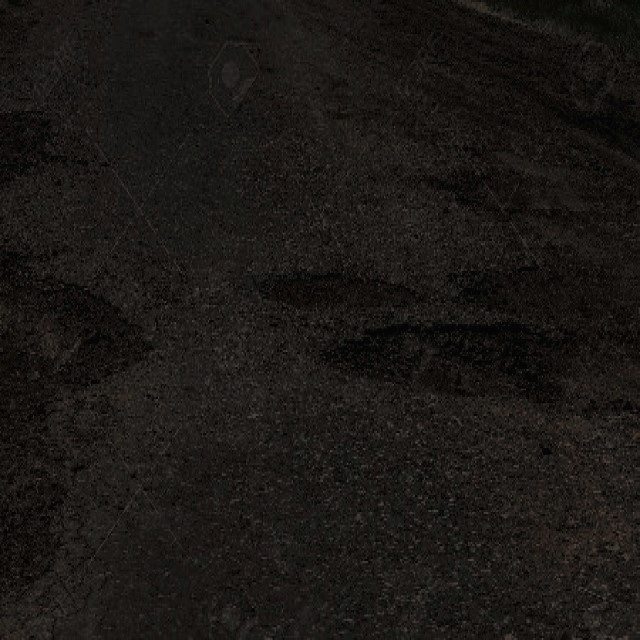Pothole: (0, 245, 154, 410), (324, 316, 570, 414), (256, 266, 421, 312), (0, 104, 55, 187)
